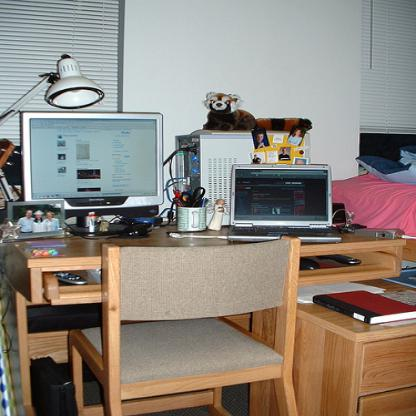chair: (65, 235, 302, 415)
tvmonitor: (19, 110, 164, 236)
